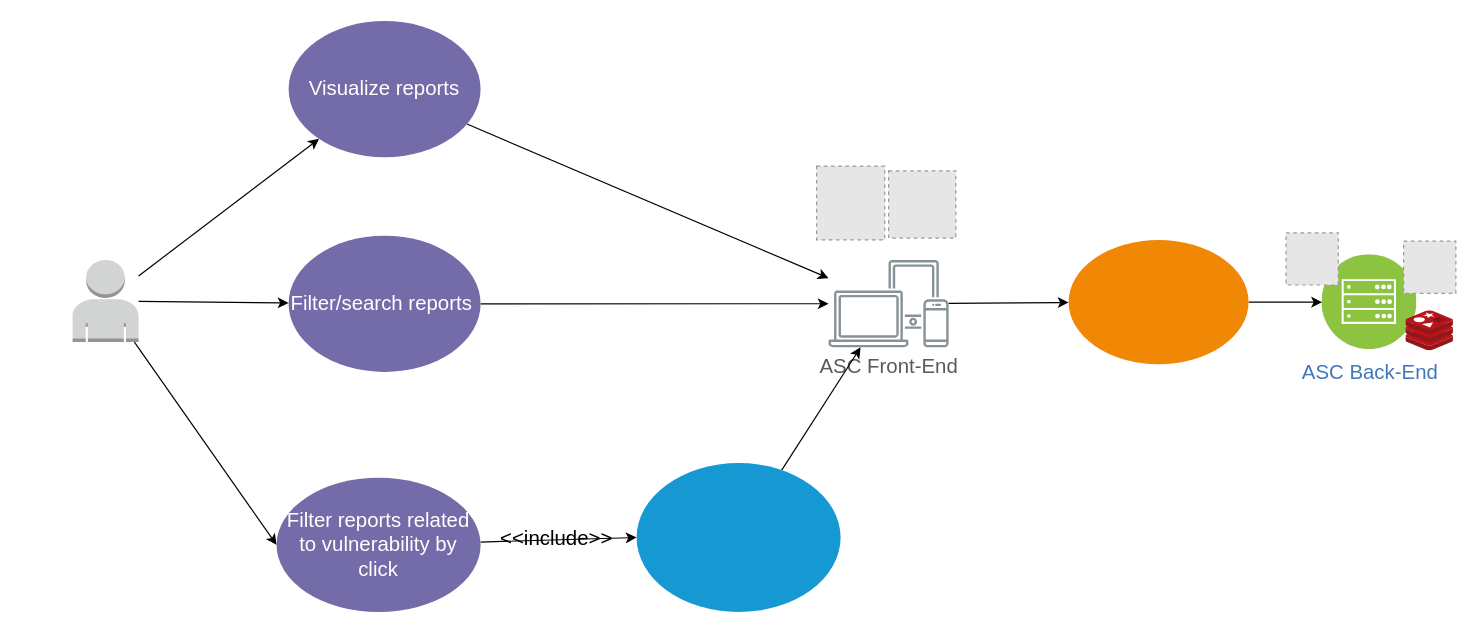
Image size: 1477x632. Some labels were removed from this diagram. Grey dashed boxes stand in for pictures. Here are the shapes that lost their labels. From the top down, the centre of each, then its label:
the point at 105,300: Authenticated user
the point at 1158,301: Retrieve vulnerabilities
the point at 738,536: Matches reports based on platform, keywords and body
